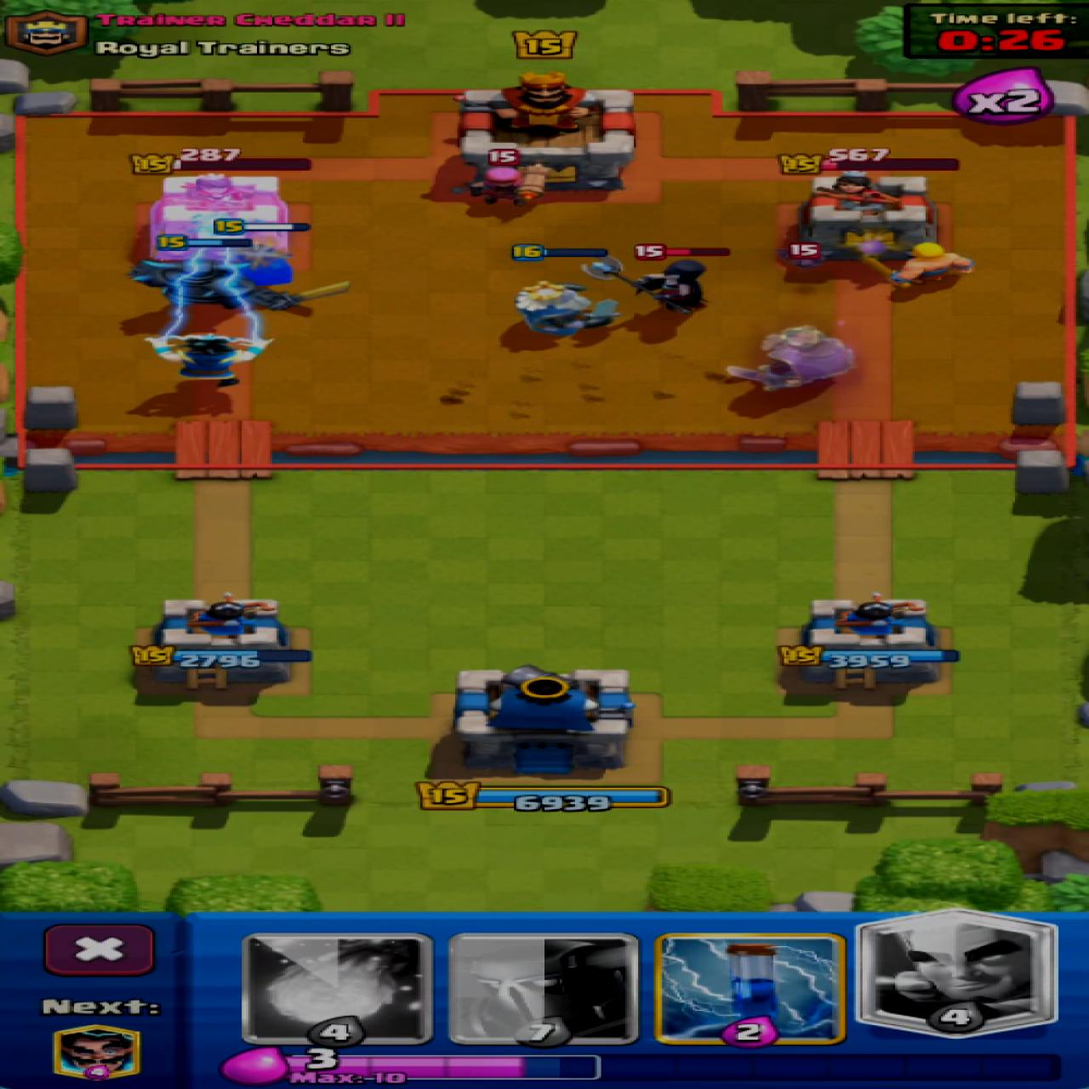Enemy-Bat: (788, 243, 821, 267)
Enemy-Firecracker: (470, 167, 544, 206)
Enemy-KingTower: (460, 72, 634, 192)
Enemy-NightWitch: (584, 258, 701, 314)
Enemy-PrincessTower: (799, 170, 937, 259), (152, 174, 290, 256)
